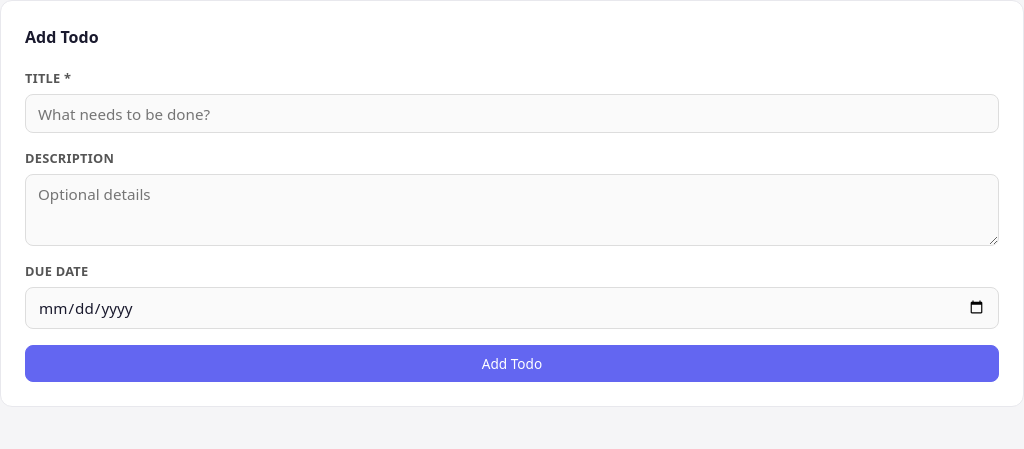
Test: TodoForm › blocks submit and shows error when title is empty
What coordinates should you click on to do the following:
click the button "Add Todo"
I would click on:
 (512, 363)
Its box is [25,344,999,382].
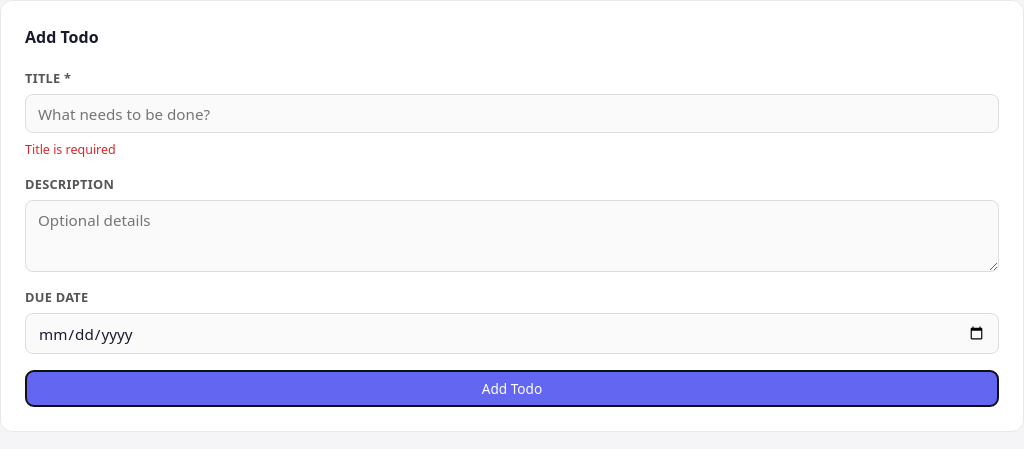
Result: the text "Title is required" is shown at [25,141,116,158]
